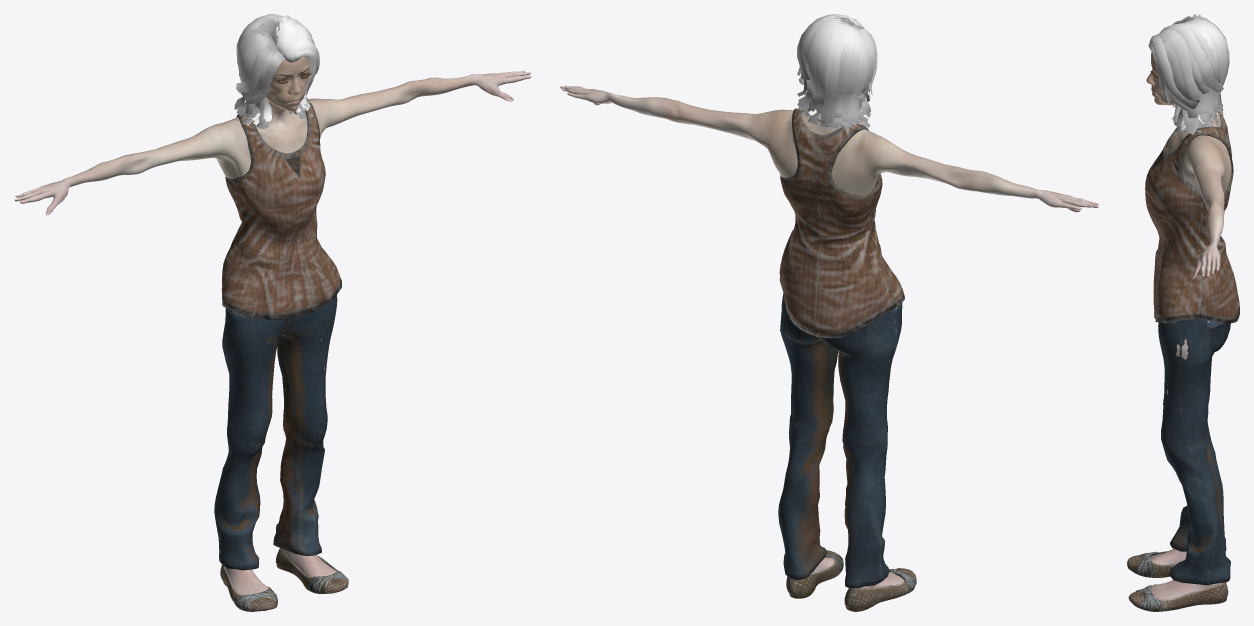
File: emaciated female.obj
3 views of the same model, side by side, from view 1: azimuth 30°, elevation 25°; view 2: azimuth 150°, elevation 25°; view 3: azimuth 270°, elevation 25° (orthographic).
Parts seen in each view (by area): view 1: Bottoms, Tops, Body, Hair, Shoes; view 2: Bottoms, Tops, Body, Hair, Shoes; view 3: Bottoms, Tops, Hair, Body, Shoes.
Boxes of the visible parts, box(x1,y1,x2,y2) form: Bottoms: box(214, 295, 337, 570); Tops: box(221, 100, 341, 320); Body: box(14, 56, 531, 595); Hair: box(234, 14, 319, 128); Shoes: box(220, 548, 348, 611); Bottoms: box(778, 293, 902, 588); Tops: box(779, 108, 904, 338); Body: box(560, 85, 1098, 587); Hair: box(797, 14, 877, 130); Shoes: box(786, 550, 916, 611); Bottoms: box(1158, 319, 1230, 585); Tops: box(1145, 111, 1239, 323); Hair: box(1148, 15, 1229, 134); Body: box(1146, 14, 1231, 599); Shoes: box(1127, 551, 1228, 611).
Bounding box in the file's own units: 161 × 167 × 29.96.
Materials: 1 (1 with a texture image).
